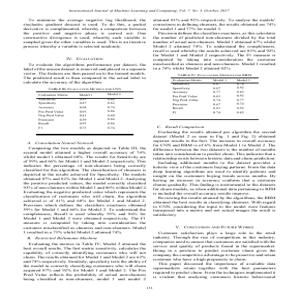text: (151, 125, 280, 281), (22, 142, 147, 282), (17, 16, 148, 84), (150, 16, 279, 70)
